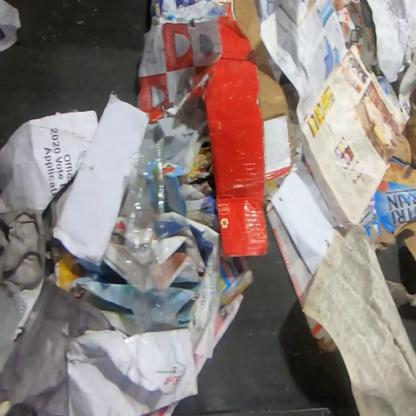cardboard: (205, 0, 291, 258), (359, 161, 415, 263)
soft_plastic: (0, 278, 114, 416), (124, 143, 178, 334)
